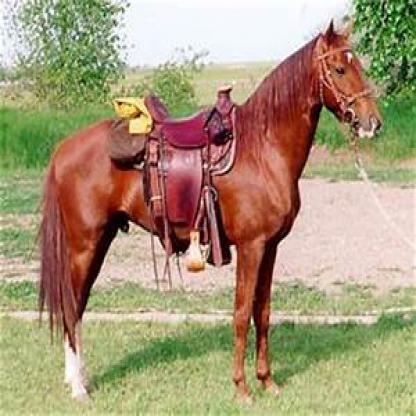horse: (42, 17, 384, 404)
